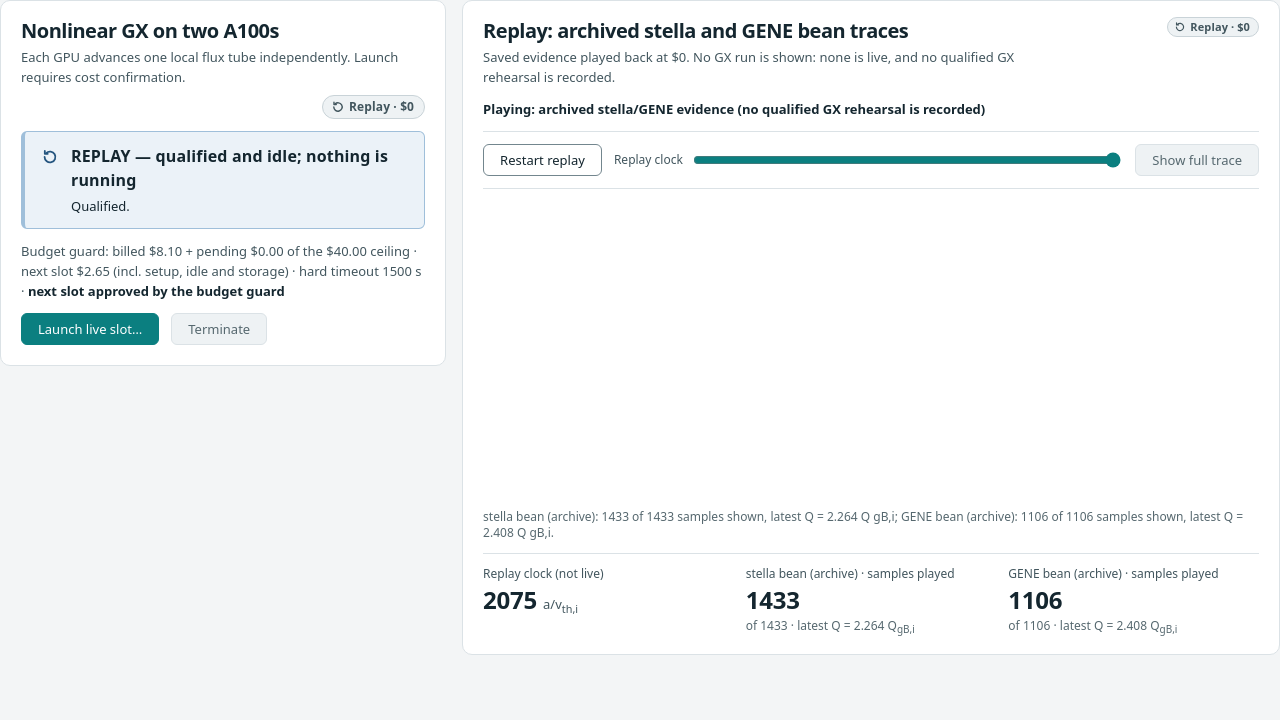
Test: L10 launch requires an explicit confirmation showing the slot cost and POSTs confirmCostUsd as JSON
# Cancel (Escape) sends nothing and returns focus.
Click the button "Launch live slot…": (90, 329) [21,313,159,345]
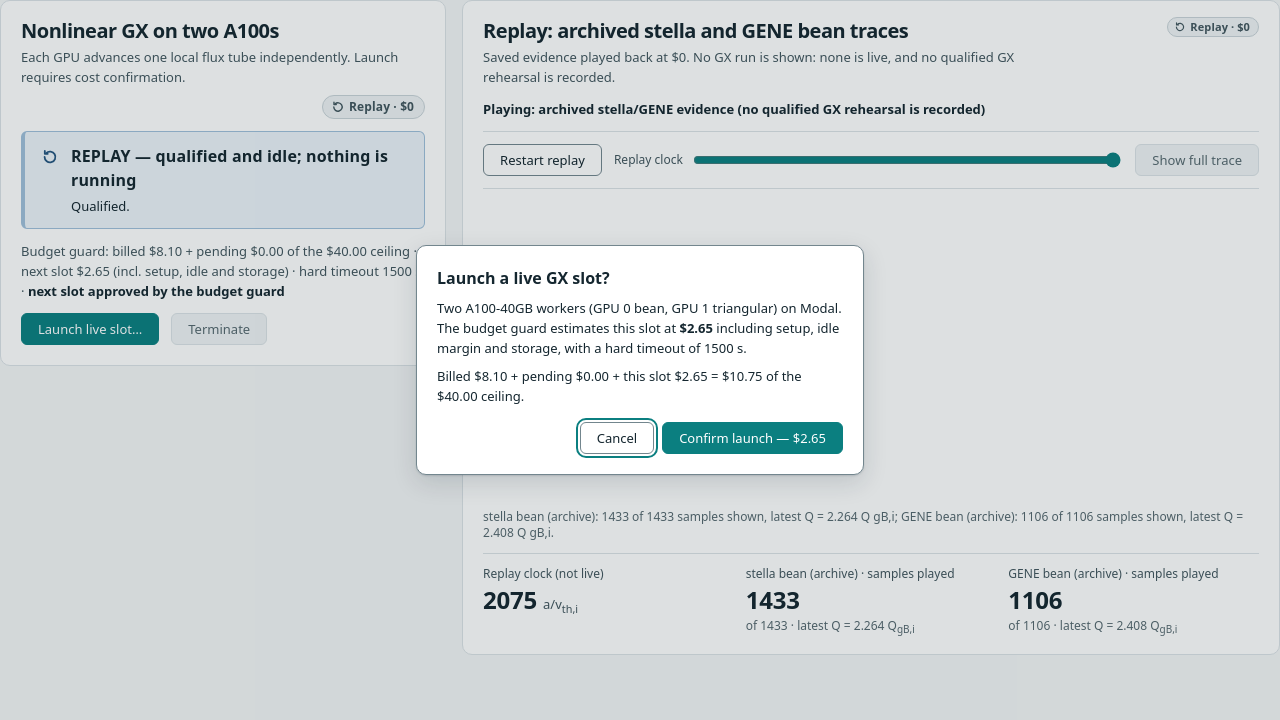
Result: the text with test id "confirm-cost" reads "$2.65" at [680,319,713,337]
Press Escape
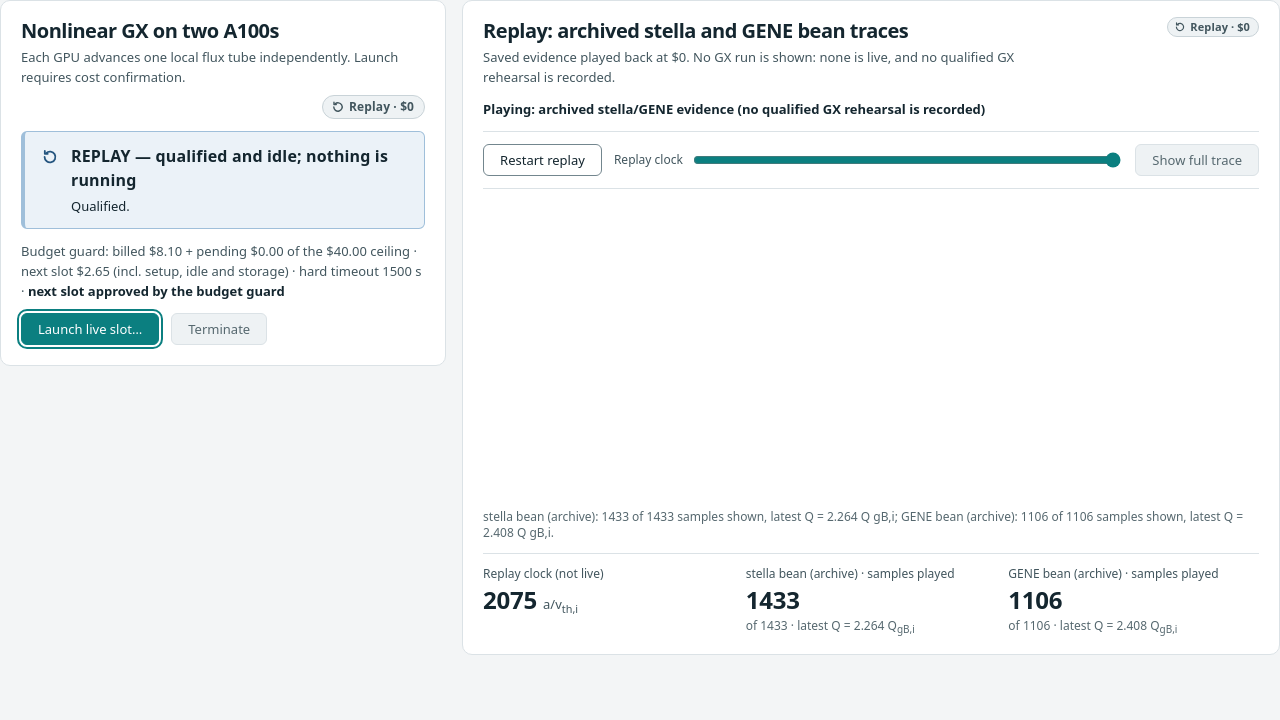
Result: the dialog is gone
# Confirm (keyboard): one POST with the exact slot estimate.
Press Enter
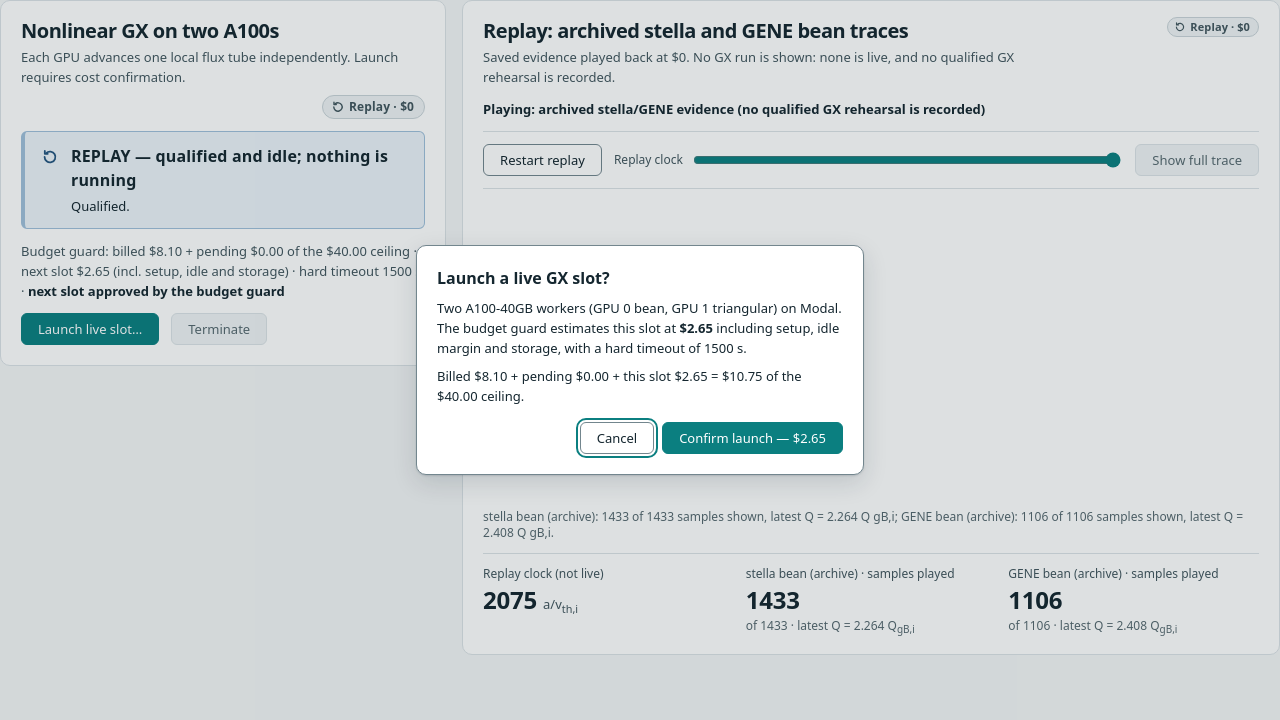
Result: the dialog "Launch a live GX slot?" shows "Billed $8.10 + pending $0.00 + this slot $2.65 = $10.75 of the $40.00 ceiling." at [416,245,864,475]
Press Tab
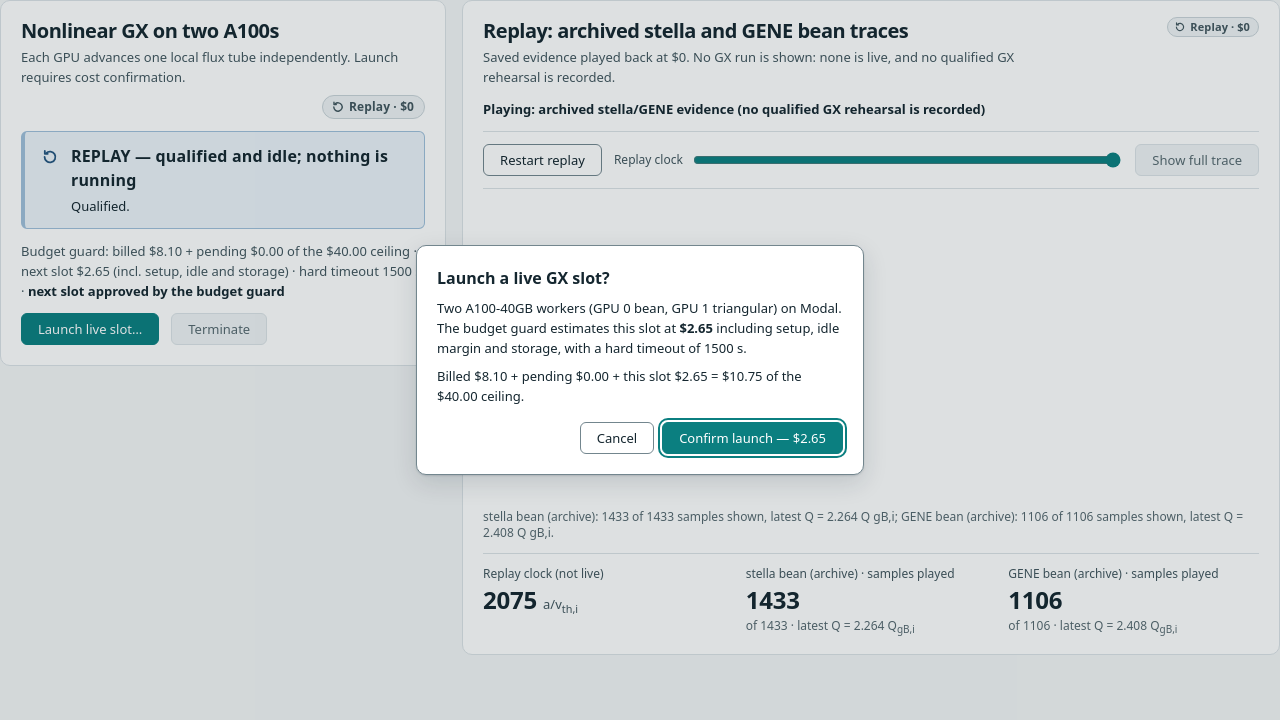
Press Enter
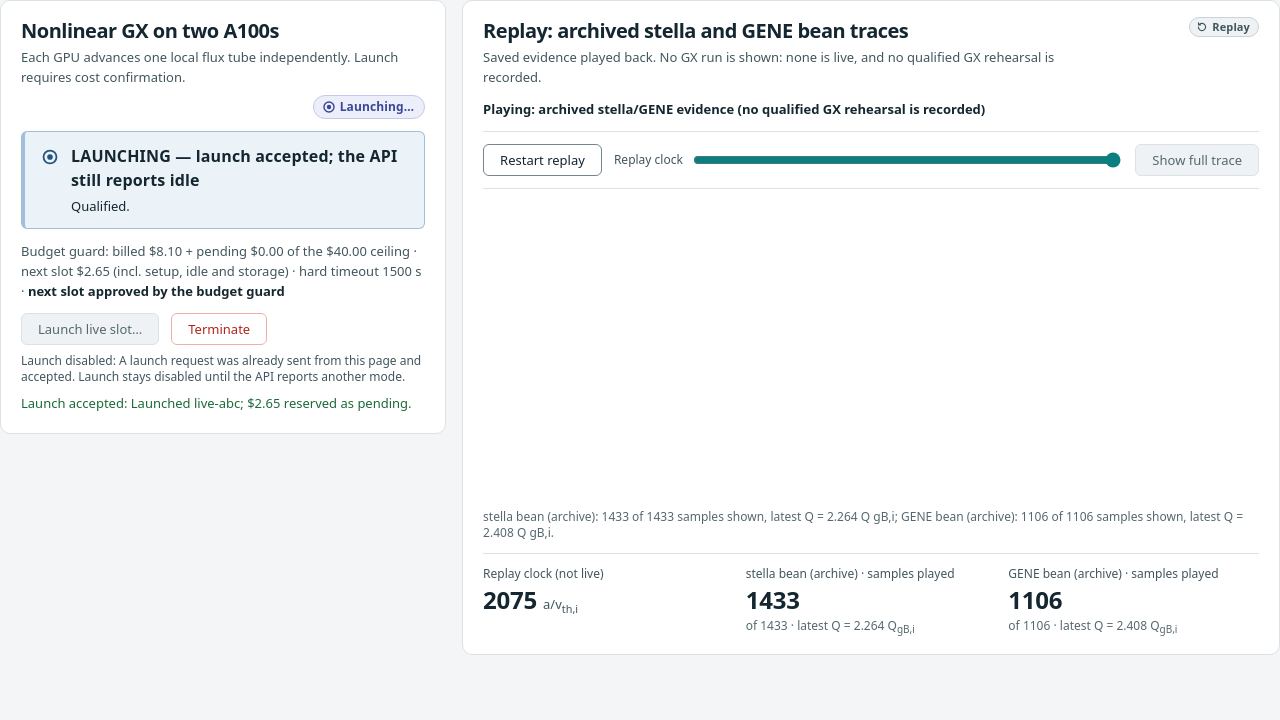
Result: the text "Launch accepted: Launched live-abc; $2.65 reserved as pending." is shown at [21,393,425,413]
